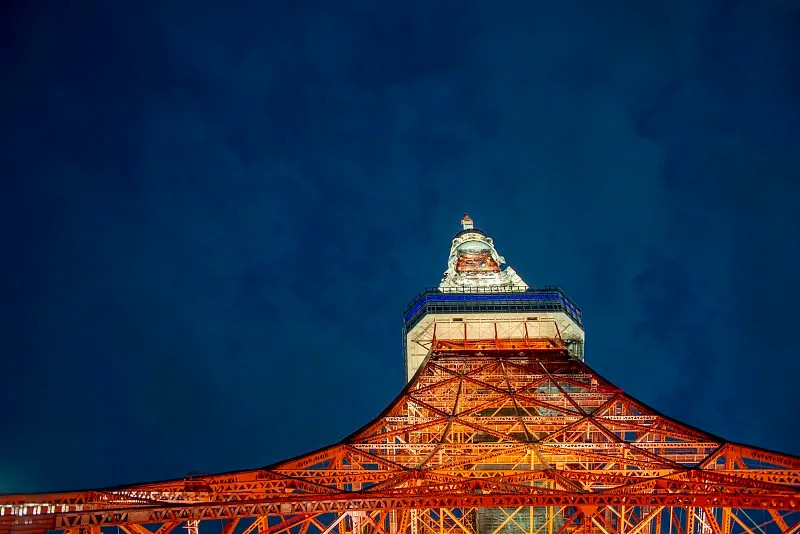Tokyo: (1, 210, 800, 532)
